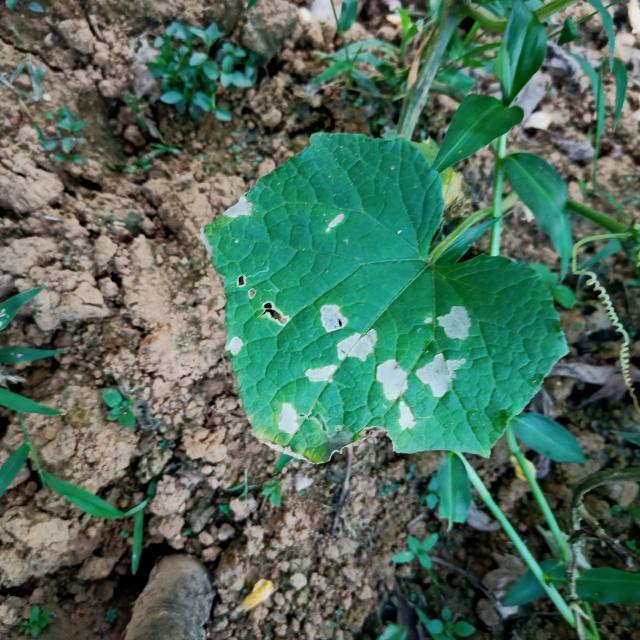disease_cucumber: (373, 356, 418, 431), (320, 304, 378, 362), (235, 270, 290, 328), (414, 352, 468, 398), (423, 304, 472, 341), (223, 194, 254, 221), (278, 401, 301, 437), (304, 362, 339, 385), (322, 208, 348, 233), (226, 335, 245, 356)
